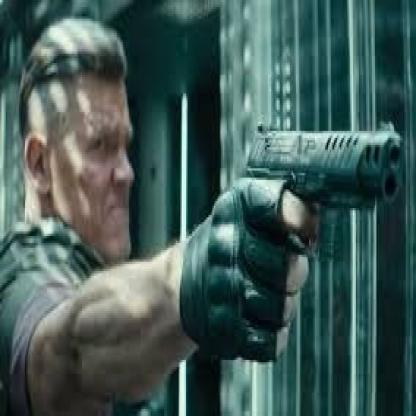Pistol: (243, 115, 398, 244)
